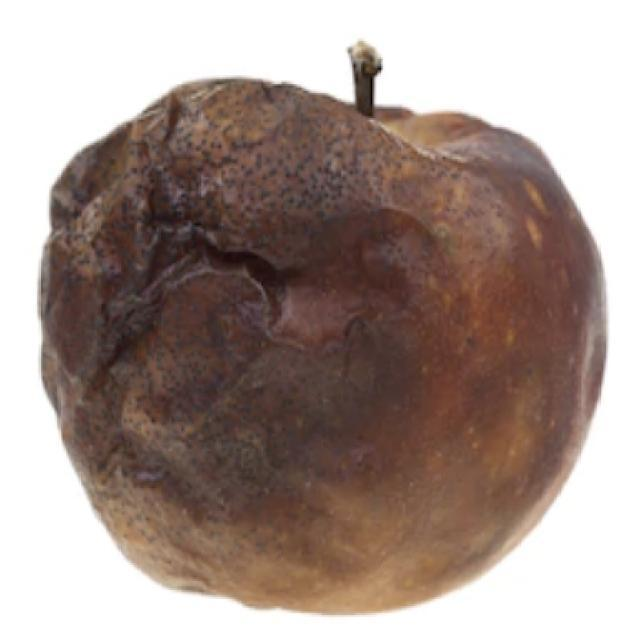Rotten: (50, 95, 602, 597)
